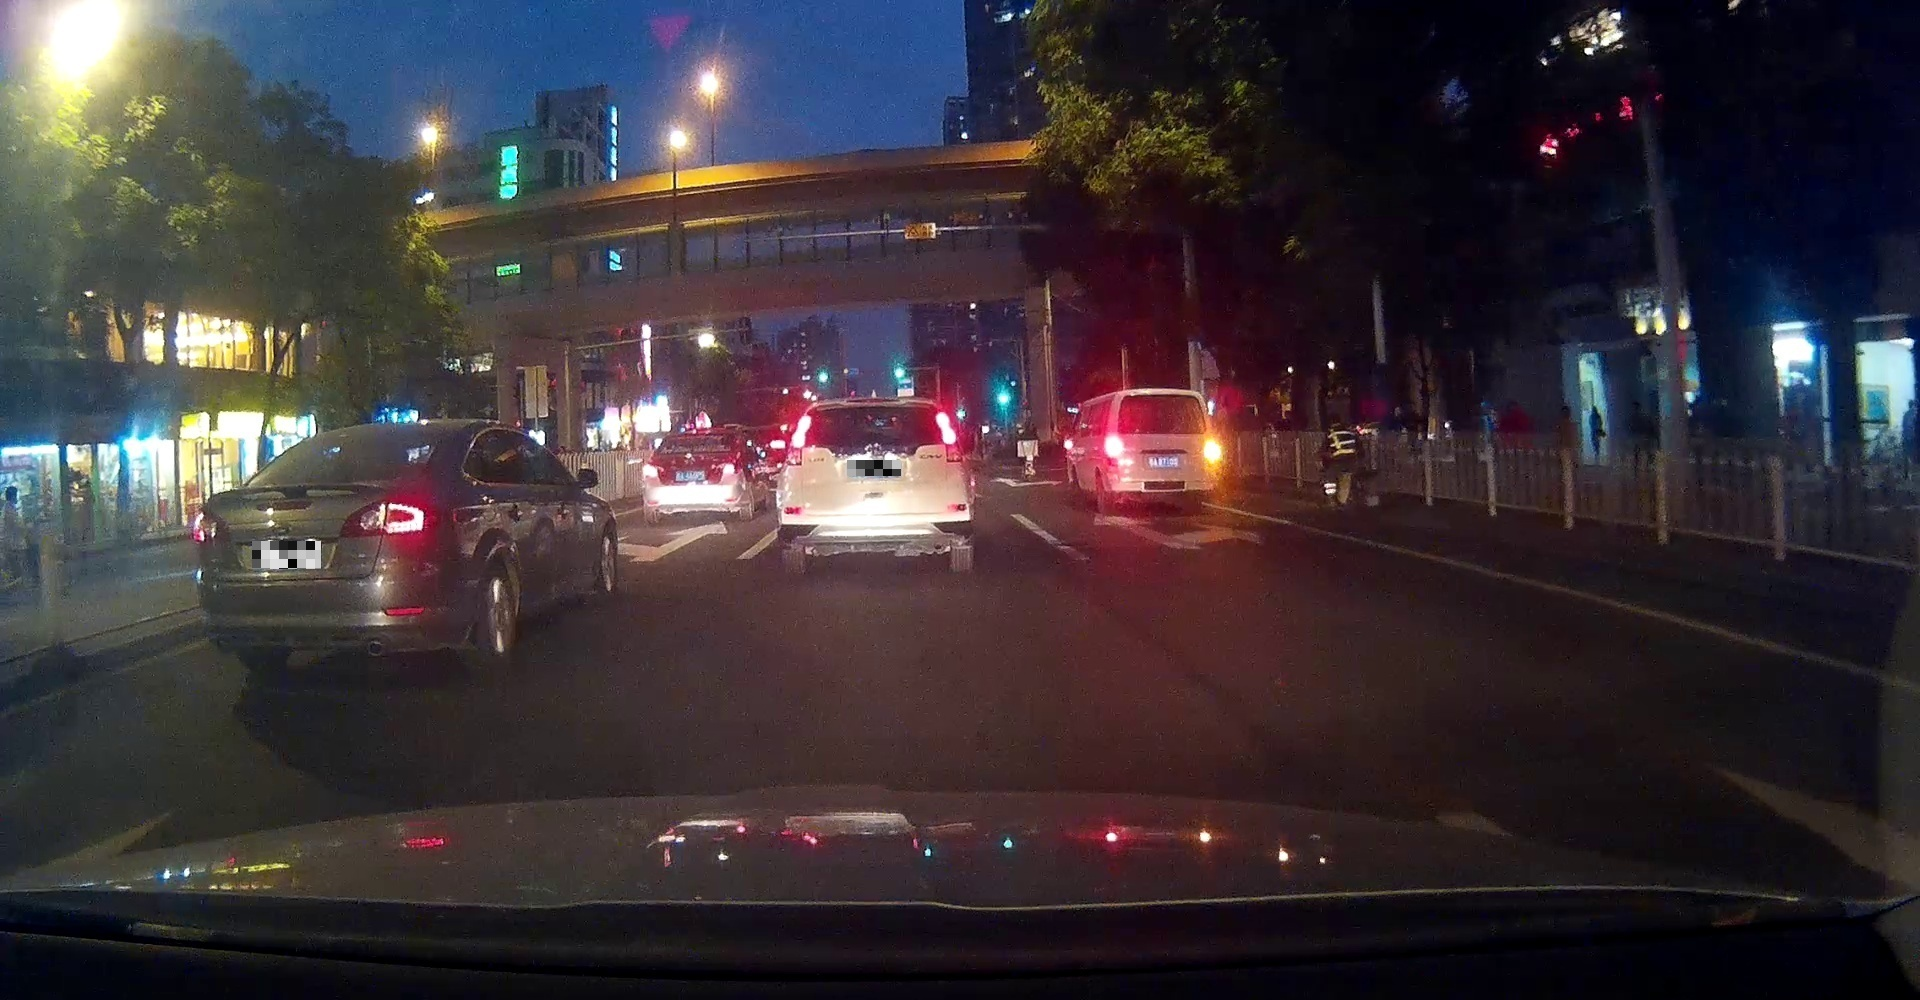L_light: (190, 509, 231, 544), (783, 415, 811, 464), (1106, 435, 1123, 464), (643, 464, 659, 477)
R_light: (338, 495, 433, 537), (935, 411, 963, 461), (1203, 435, 1220, 466), (721, 462, 738, 475)
T_light: (361, 431, 396, 443), (863, 404, 889, 412), (1150, 393, 1171, 402), (693, 434, 709, 440)
night-no: (190, 418, 439, 668), (776, 398, 974, 574), (643, 426, 738, 523)
night-right: (1103, 390, 1222, 514)
plate_1: (251, 541, 321, 569)
plate_2: (847, 459, 902, 476)
